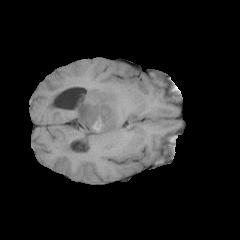glioma: (75, 86, 133, 135)
